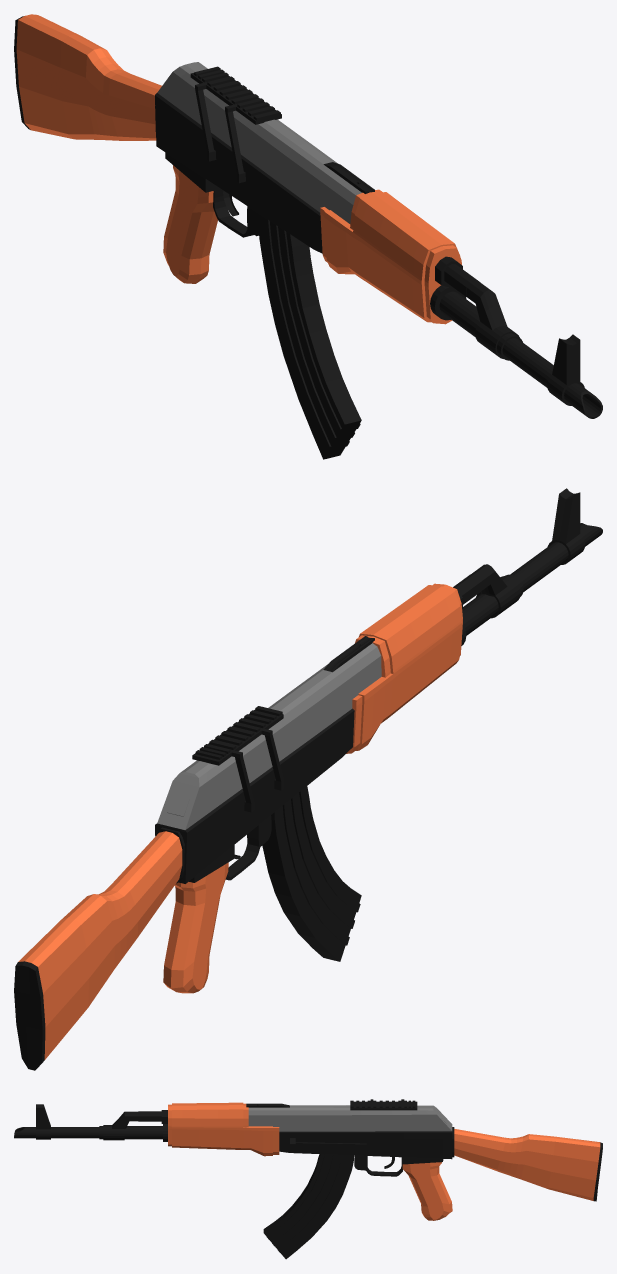
The picture shows the model from 3 angles, top to bottom: view 1: azimuth 30°, elevation 25°; view 2: azimuth 150°, elevation 25°; view 3: azimuth 270°, elevation 25°; orthographic projection. The views are drawn at different scales.
Parts seen in each view (by area): view 1: mainbody, Cube.001, Cube, body, Cylinder, Cube.002, Cube.003; view 2: mainbody, Cube.001, body, Cube, Cylinder, Cube.002, Cube.003; view 3: mainbody, Cube.001, body, Cube, Cylinder, Cube.002, Cube.003.
Boxes of the visible parts, x1,y1,x2,y2 form: mainbody: (155,62,374,253); Cube.001: (14,14,161,140); Cube: (257,213,361,459); body: (320,189,461,324); Cylinder: (430,256,602,418); Cube.002: (163,165,217,283); Cube.003: (190,66,281,183); mainbody: (155,636,381,883); Cube.001: (14,831,182,1070); body: (346,583,462,753); Cube: (262,786,361,961); Cylinder: (453,488,602,645); Cube.002: (163,862,228,993); Cube.003: (192,706,283,812); mainbody: (246,1103,454,1176); Cube.001: (454,1129,602,1201); body: (168,1102,279,1156); Cube: (263,1154,354,1259); Cylinder: (14,1104,167,1141); Cube.002: (402,1162,452,1220); Cube.003: (350,1099,417,1110).
Size of the model in its own units: 27.69 by 139 by 483.
